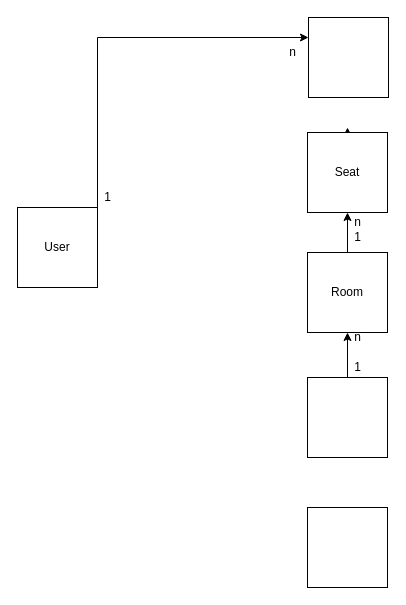
This 406x605 diagram has some shape labels left out. Each missing label, with the centre of its shape:
Booking: point 348,57
Movie: point 347,417
